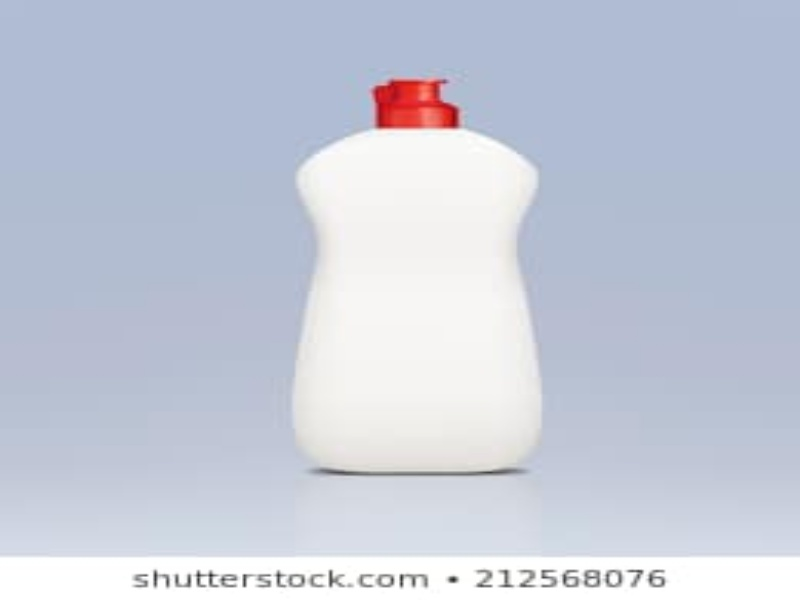detergent-bottle: (288, 75, 544, 481)
